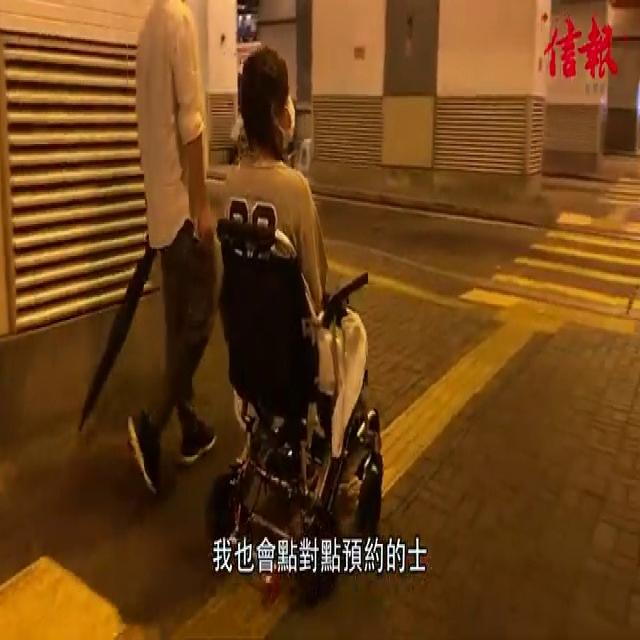wheelchairs: (204, 198, 399, 601)
